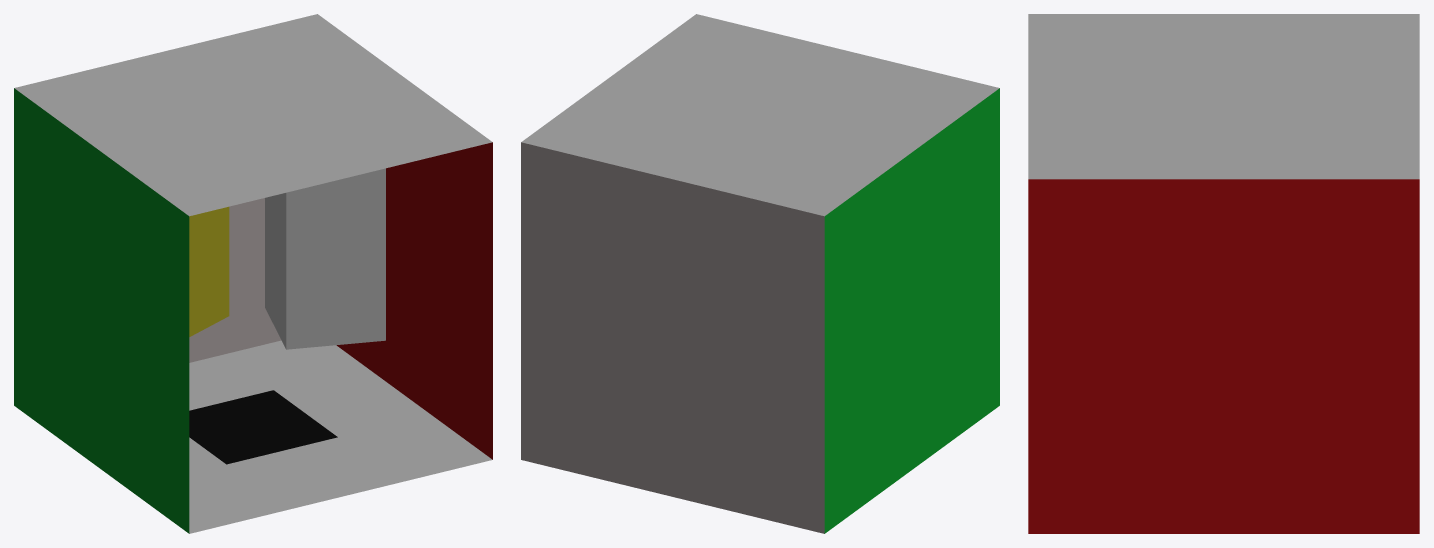
The model's file is tudo3.obj.
3 renders of one model, left to right at view 1: azimuth 30°, elevation 25°; view 2: azimuth 150°, elevation 25°; view 3: azimuth 270°, elevation 25°, orthographic. The views are drawn at different scales.
Parts seen in each view (by area): view 1: right_wall_Plane.002_wall3_right_wall_right_wall_Plane.002_wall, floor_Plane_Floor_floor_floor_Plane_Floor_floor_floor, teto_Plane.006_Teto_teto_teto_Plane.006_Teto_teto_teto, left_wall_Plane.001_wall1_left_wall_left_wall_Plane.001_wall1_l, Cube_Cube_left_cube.001, back_wall_Plane.003_wall2_back_wall.001_back_wall_Plane.003_wal, light_Plane.004_Plane_ligth_light_Plane.004_Plane_ligth_ligth, Cube.001_Cube.001_right_cube.001; view 2: back_wall_Plane.003_wall2_back_wall.001_back_wall_Plane.003_wal, right_wall_Plane.002_wall3_right_wall_right_wall_Plane.002_wall, floor_Plane_Floor_floor_floor_Plane_Floor_floor_floor; view 3: left_wall_Plane.001_wall1_left_wall_left_wall_Plane.001_wall1_l, floor_Plane_Floor_floor_floor_Plane_Floor_floor_floor.
Part boxes in pixels (box(x1,y1,x2,y2)): right_wall_Plane.002_wall3_right_wall_right_wall_Plane.002_wall: box(14, 88, 189, 533); floor_Plane_Floor_floor_floor_Plane_Floor_floor_floor: box(14, 14, 492, 216); teto_Plane.006_Teto_teto_teto_Plane.006_Teto_teto_teto: box(189, 340, 492, 533); left_wall_Plane.001_wall1_left_wall_left_wall_Plane.001_wall1_l: box(336, 142, 492, 459); Cube_Cube_left_cube.001: box(265, 168, 385, 349); back_wall_Plane.003_wall2_back_wall.001_back_wall_Plane.003_wal: box(189, 198, 281, 362); light_Plane.004_Plane_ligth_light_Plane.004_Plane_ligth_ligth: box(189, 390, 337, 464); Cube.001_Cube.001_right_cube.001: box(189, 206, 229, 336); back_wall_Plane.003_wall2_back_wall.001_back_wall_Plane.003_wal: box(521, 142, 824, 533); right_wall_Plane.002_wall3_right_wall_right_wall_Plane.002_wall: box(824, 88, 999, 533); floor_Plane_Floor_floor_floor_Plane_Floor_floor_floor: box(521, 14, 999, 216); left_wall_Plane.001_wall1_left_wall_left_wall_Plane.001_wall1_l: box(1028, 179, 1419, 533); floor_Plane_Floor_floor_floor_Plane_Floor_floor_floor: box(1028, 14, 1419, 179).
Size of the model in its own units: 2 by 2 by 2.
